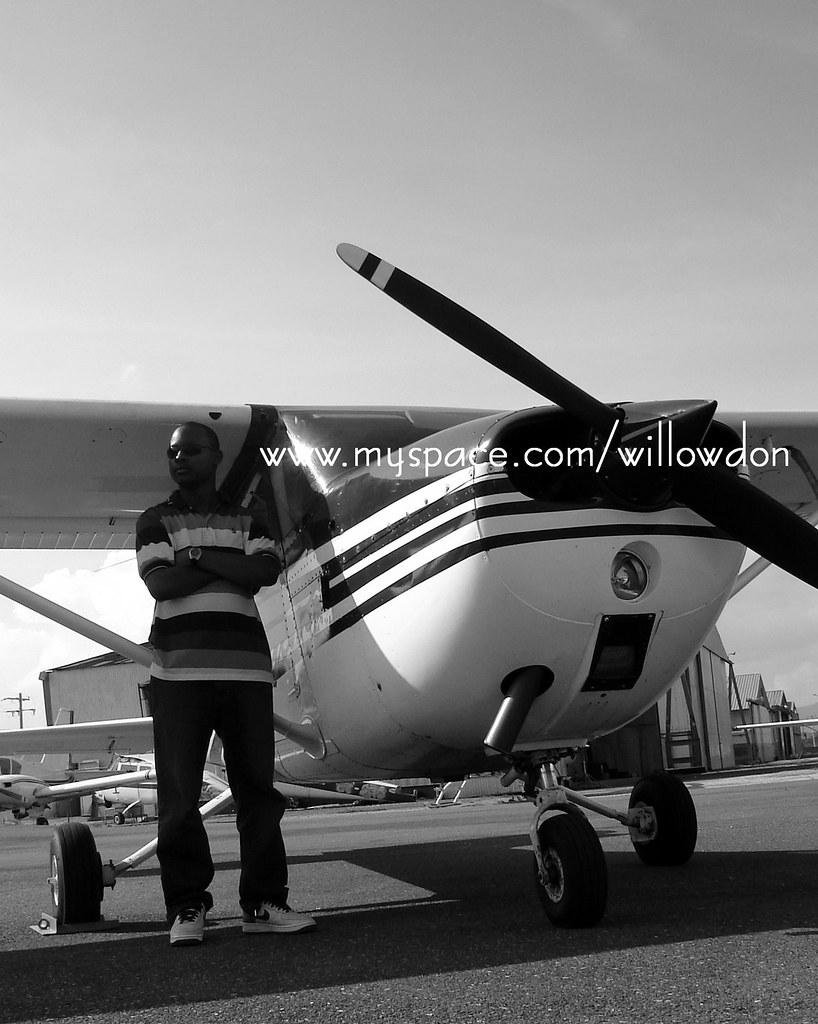plane: (1, 241, 818, 933)
